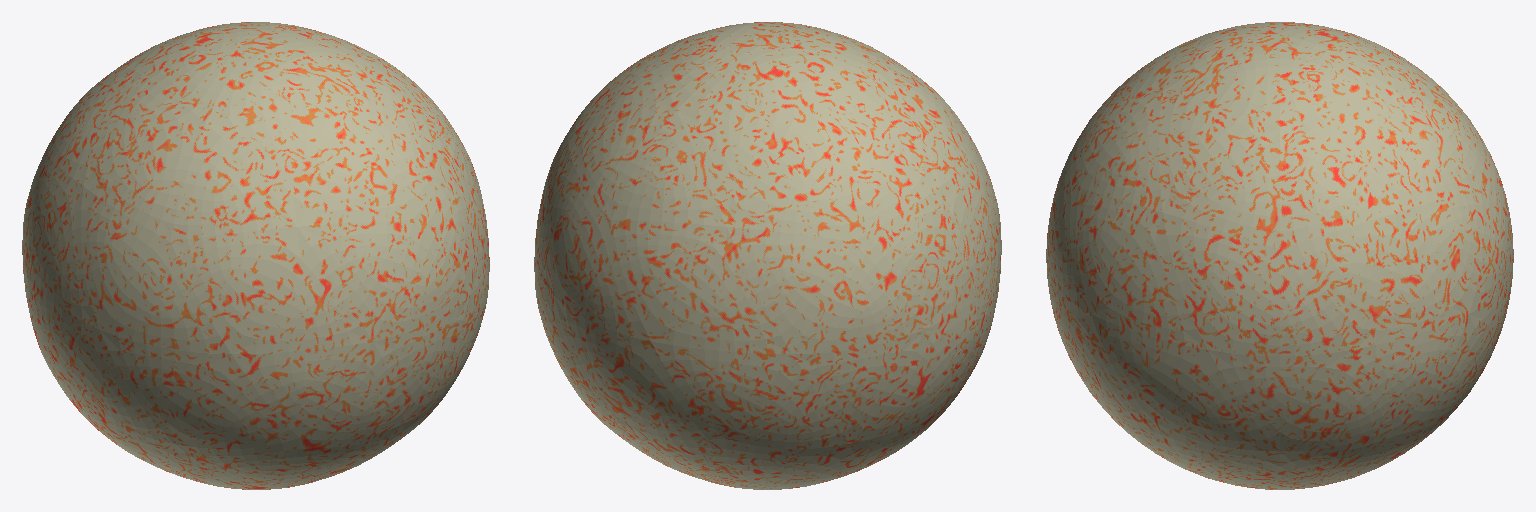
The picture shows the model from 3 angles: view 1: azimuth 30°, elevation 25°; view 2: azimuth 150°, elevation 25°; view 3: azimuth 270°, elevation 25°; orthographic projection.
Visible parts, largest first — view 1: Icosphere_Icosphere.001; view 2: Icosphere_Icosphere.001; view 3: Icosphere_Icosphere.001.
Part boxes in pixels (x1,y1,x2,y2): Icosphere_Icosphere.001: (22, 22, 489, 489); Icosphere_Icosphere.001: (534, 22, 1001, 489); Icosphere_Icosphere.001: (1046, 22, 1513, 489).
Size of the model in its own units: 2.3 by 2.32 by 2.3.
Materials: 1 (1 with a texture image).